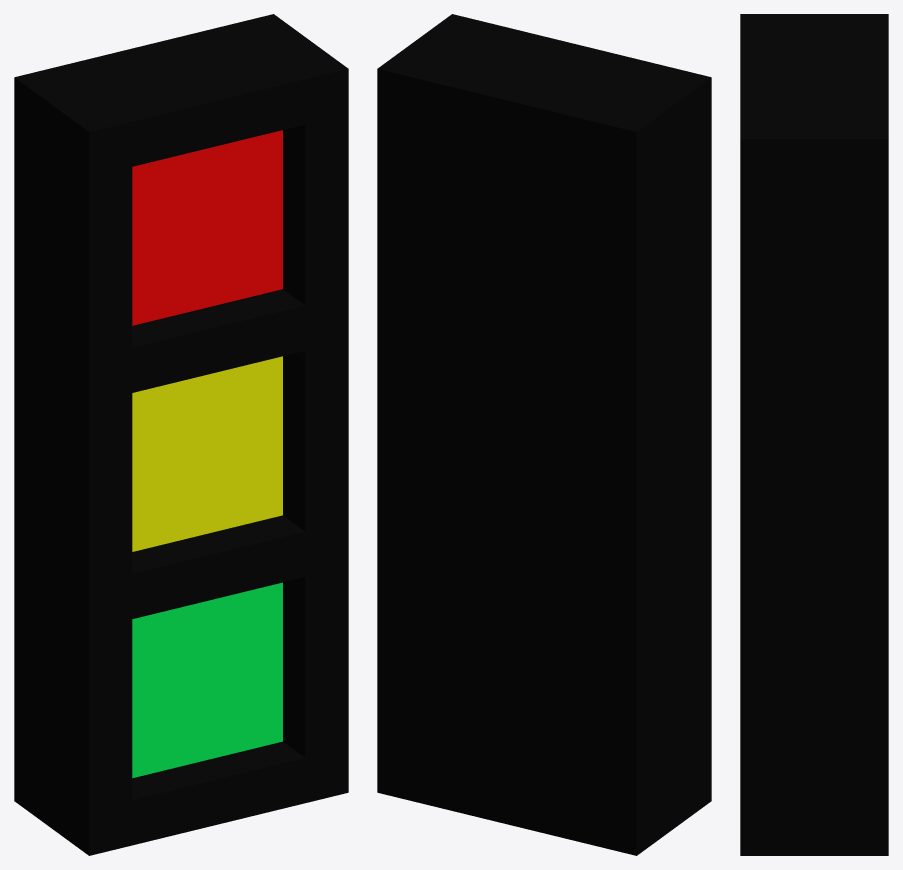
File: trafficlight_3.obj
The picture shows the model from 3 angles, left to right: view 1: azimuth 30°, elevation 25°; view 2: azimuth 150°, elevation 25°; view 3: azimuth 270°, elevation 25°; orthographic projection.
Parts seen in each view (by area): view 1: main, r, g, y; view 2: main; view 3: main.
Part boxes in pixels (x1,y1,x2,y2): main: (14, 14, 348, 855); r: (132, 130, 282, 325); g: (132, 582, 282, 778); y: (132, 356, 282, 551); main: (377, 14, 711, 855); main: (740, 14, 888, 855).
Size of the model in its own units: 0.375 by 1 by 0.1875.
5 materials, 5 textured.
